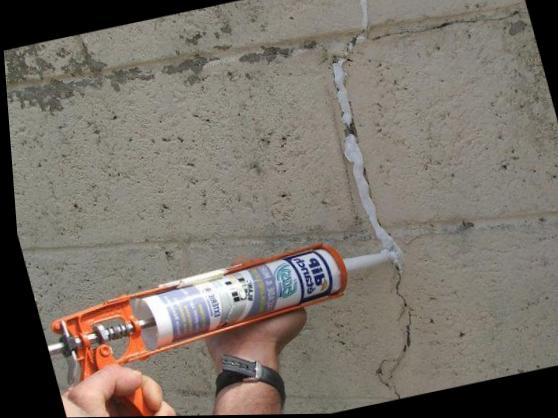crack: (369, 267, 408, 401), (372, 7, 527, 40)
